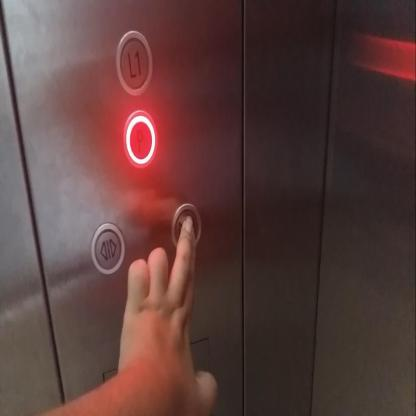L1: (115, 28, 154, 98)
P: (122, 110, 160, 170)
open: (91, 223, 125, 274)
